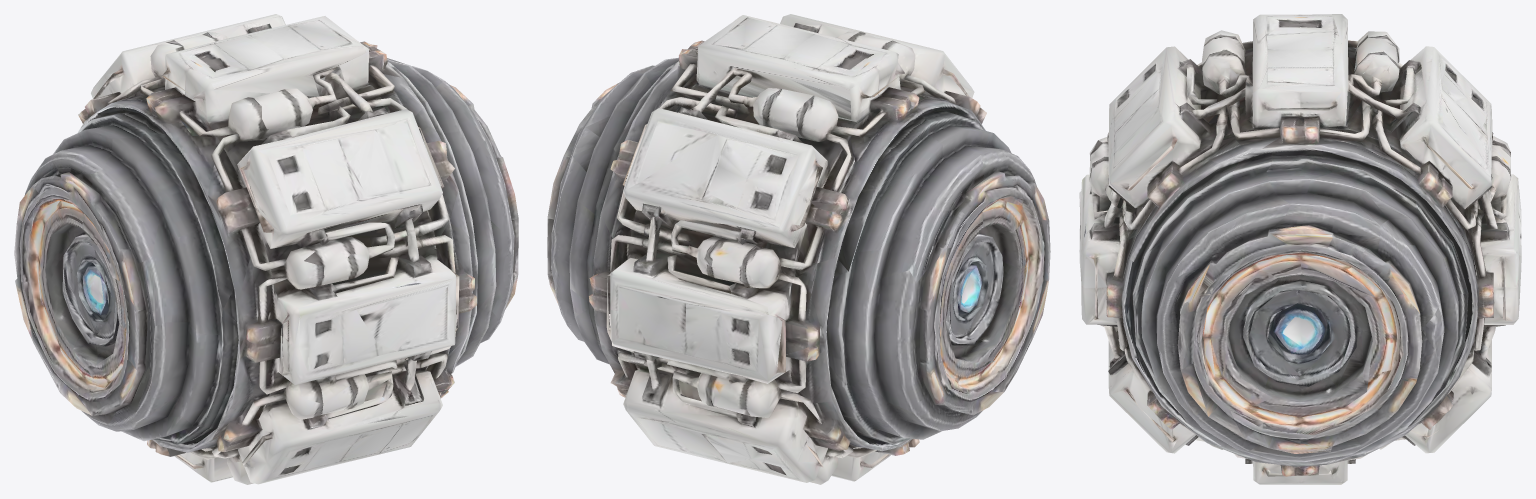
File: dockingHub.glb
The picture shows the model from 3 angles, left to right: view 1: azimuth 30°, elevation 25°; view 2: azimuth 150°, elevation 25°; view 3: azimuth 270°, elevation 25°; orthographic projection.
Parts seen in each view (by area): view 1: dockingHub; view 2: dockingHub; view 3: dockingHub.
Boxes of the visible parts, x1,y1,x2,y2 form: dockingHub: (14, 14, 518, 484); dockingHub: (547, 14, 1050, 484); dockingHub: (1079, 14, 1521, 484).
Bounding box in the file's own units: 25.49 × 25.49 × 25.5.
Materials: 1 (1 with a texture image).
